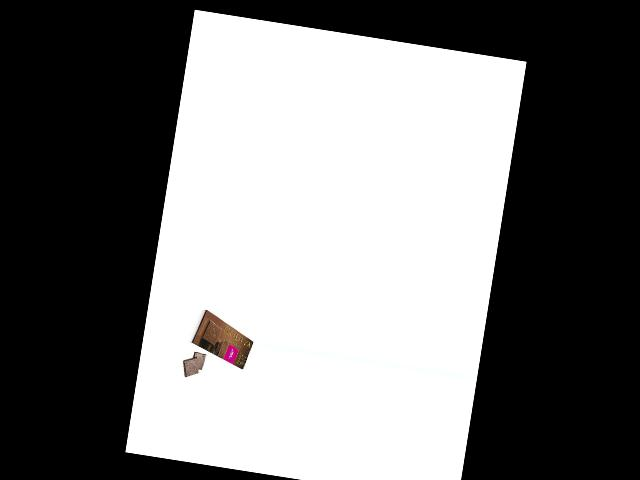chocolate: (187, 307, 258, 371)
